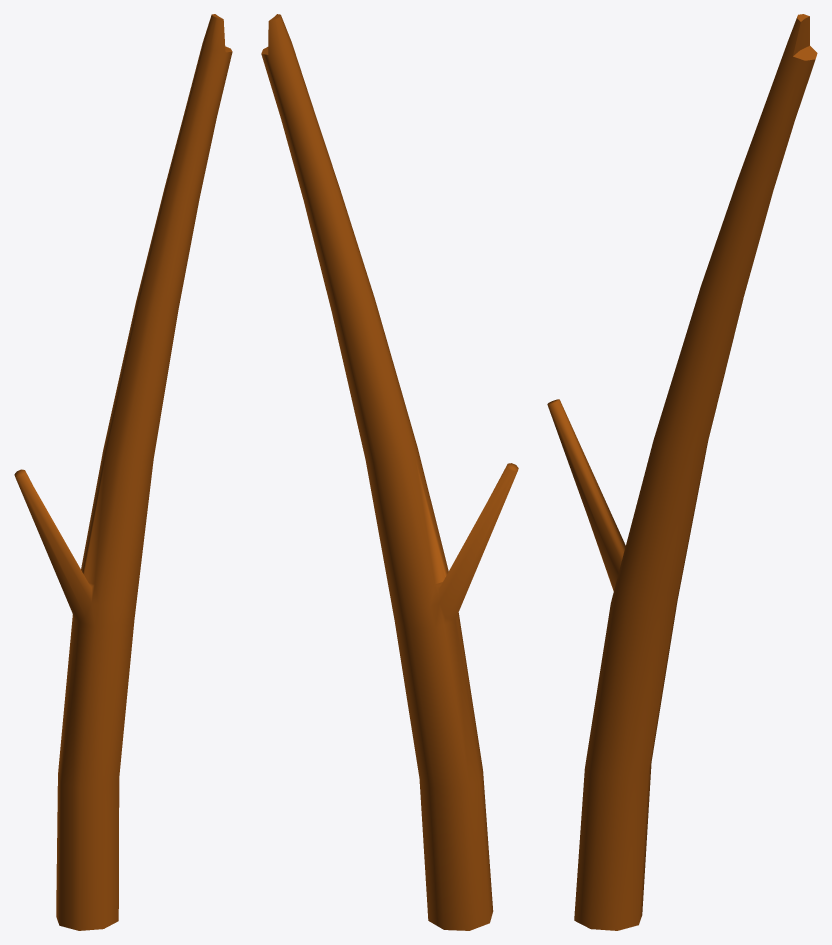
The model's file is Props_Branche.fbx.
3 views of the same model, side by side, from view 1: azimuth 30°, elevation 25°; view 2: azimuth 150°, elevation 25°; view 3: azimuth 330°, elevation 25° (orthographic). The views are drawn at different scales.
Visible parts, largest first — view 1: branche; view 2: branche; view 3: branche.
Part boxes in pixels (x1,y1,x2,y2): branche: (14,14,232,930); branche: (261,14,518,930); branche: (547,14,817,930).
Size of the model in its own units: 11.76 by 41.38 by 4.22.
